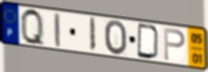D: (136, 22, 161, 61)
I: (53, 11, 62, 49), (88, 16, 97, 54)
O: (103, 19, 129, 57)
P: (163, 27, 187, 62)
Q: (19, 7, 47, 49)
